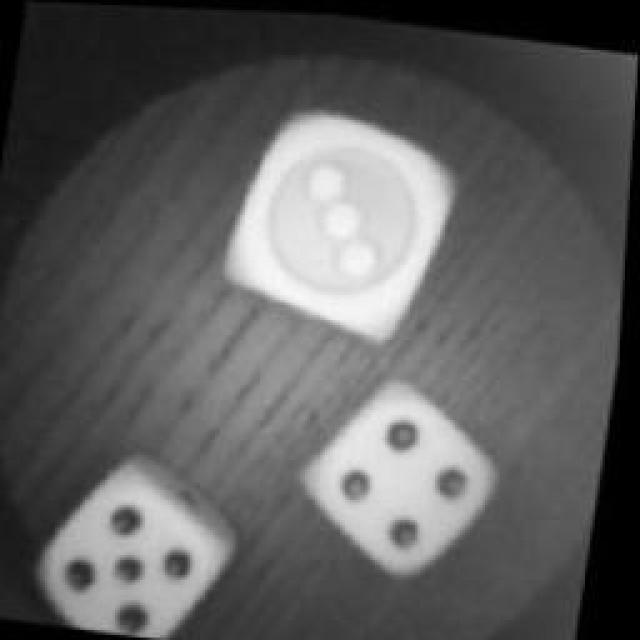dice_3: (215, 91, 470, 346)
dice_4: (301, 365, 514, 590)
dice_5: (34, 450, 254, 640)
